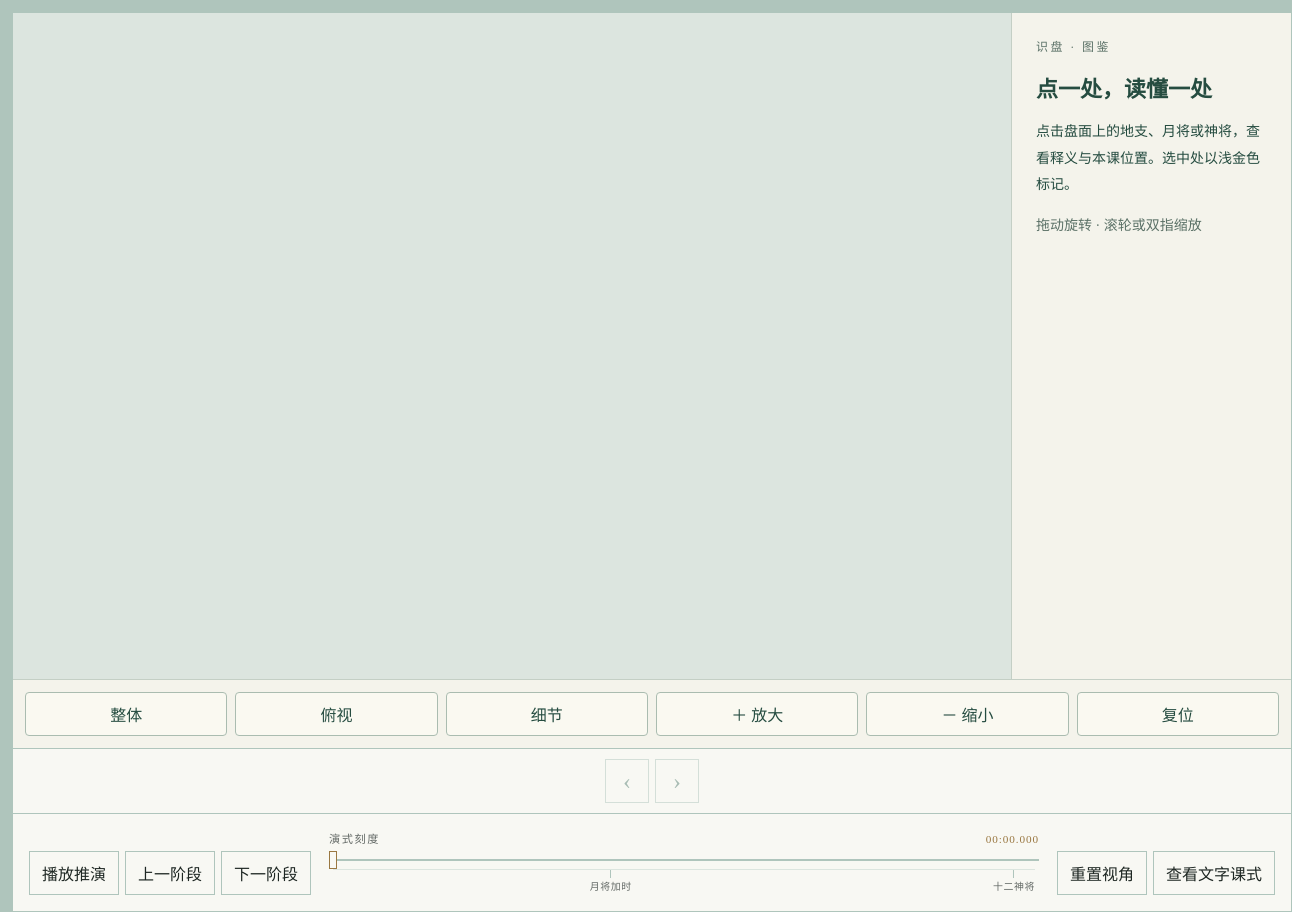
Test: ArtifactExperience › stops camera requests without stopping mechanism playback when scene reports user control
Check: the slider named "推演时间轴" is shown, box [329, 851, 1039, 869]
Click the button "播放推演".
click(74, 873)  # box [29, 851, 119, 895]
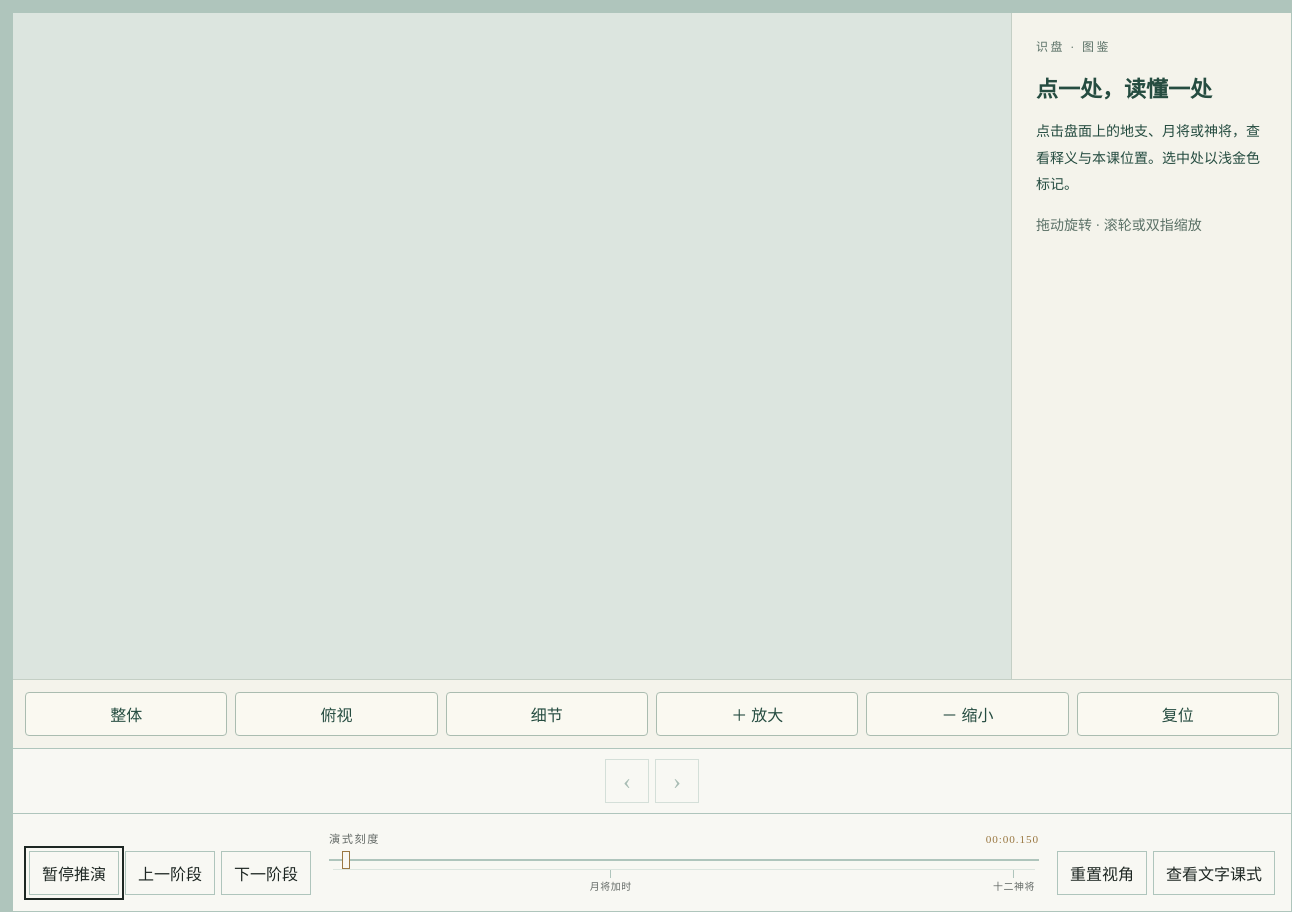
Check: the slider named "推演时间轴" holds "150", box [329, 851, 1039, 869]
Check: the button "暂停推演" is shown, box [29, 851, 119, 895]
